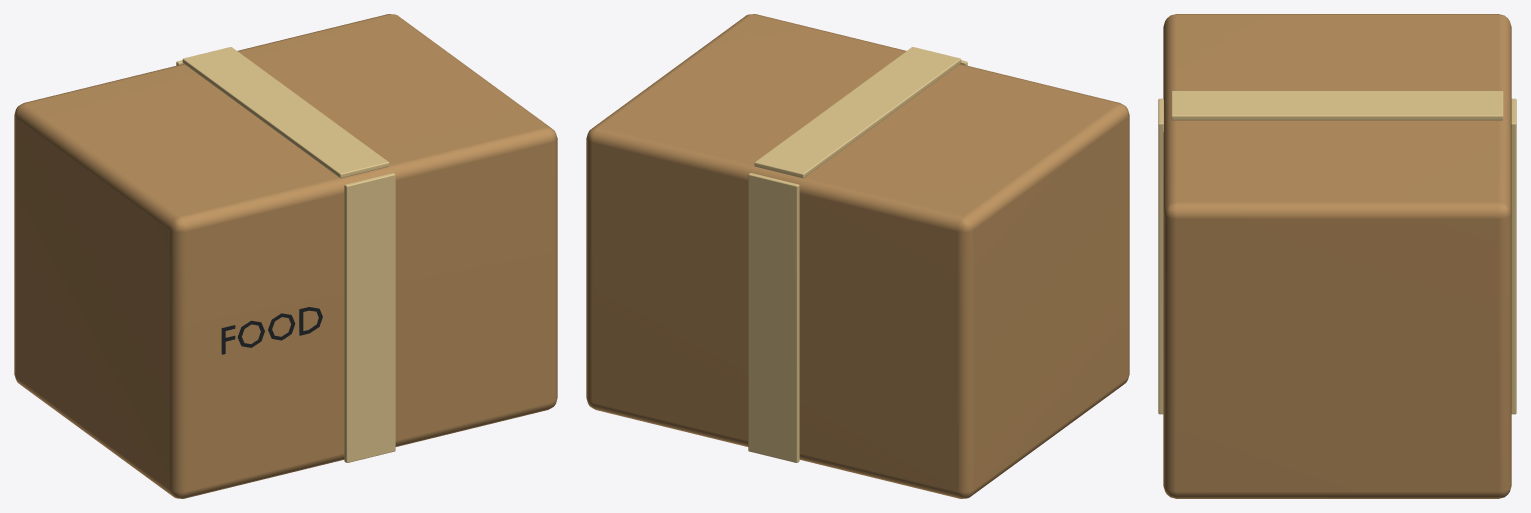
File: HotelTogether-FoodBox.glb
The picture shows the model from 3 angles, left to right: view 1: azimuth 30°, elevation 25°; view 2: azimuth 150°, elevation 25°; view 3: azimuth 270°, elevation 25°; orthographic projection. The views are drawn at different scales.
Parts seen in each view (by area): view 1: FoodBox_Body, FoodBox_Tape, FoodBox_TopTape, FoodBox_Label; view 2: FoodBox_Body, FoodBox_Tape.001, FoodBox_TopTape; view 3: FoodBox_Body, FoodBox_TopTape, FoodBox_Tape, FoodBox_Tape.001.
Part boxes in pixels (box(x1,y1,x2,y2)): FoodBox_Body: box(14, 14, 557, 498); FoodBox_Tape: box(344, 173, 395, 462); FoodBox_TopTape: box(182, 47, 389, 178); FoodBox_Label: box(221, 307, 322, 354); FoodBox_Body: box(586, 14, 1129, 498); FoodBox_Tape.001: box(748, 173, 799, 462); FoodBox_TopTape: box(754, 47, 961, 178); FoodBox_Body: box(1163, 14, 1511, 498); FoodBox_TopTape: box(1171, 90, 1503, 120); FoodBox_Tape: box(1158, 98, 1163, 414); FoodBox_Tape.001: box(1511, 98, 1516, 414).
Size of the model in its own units: 0.43 by 0.3055 by 0.329.
